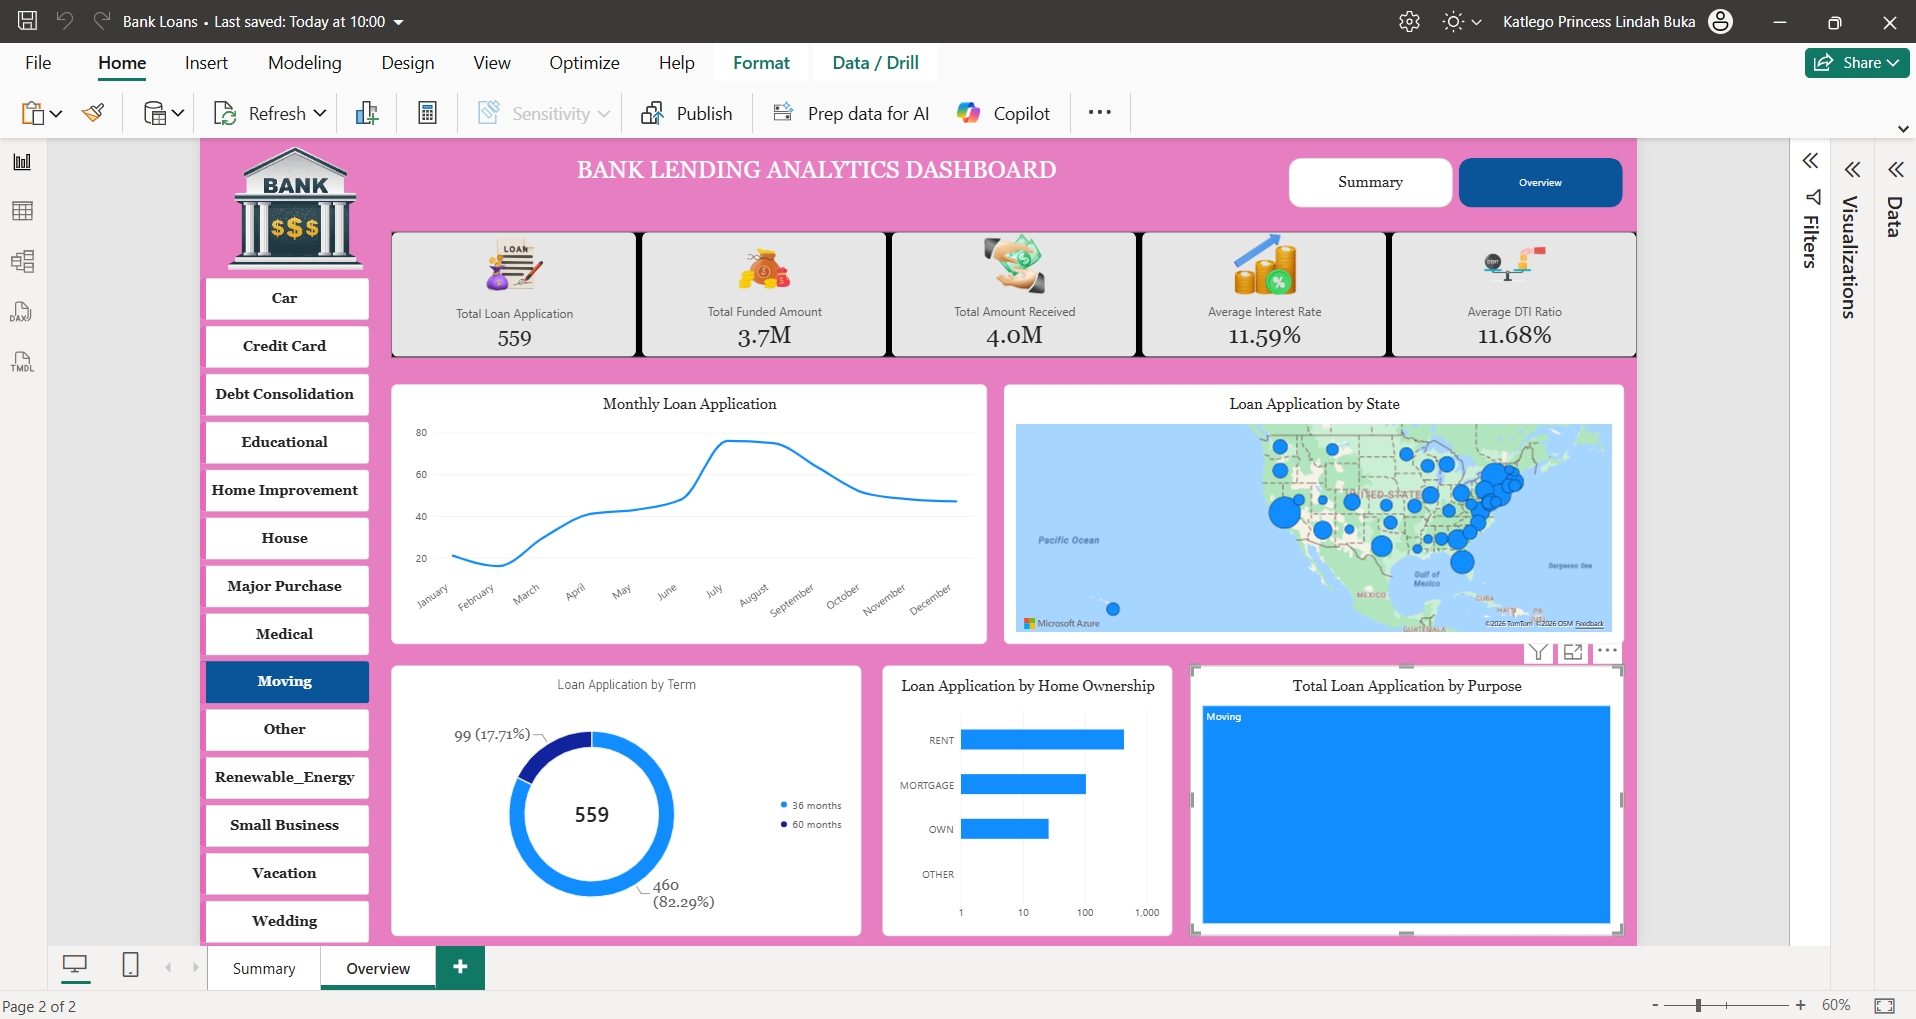

Layout of this report page (visuals, bound fields, positions):
{"tool":"powerbi","page":{"name":"Overview","canvas":[1920,1080],"ordinal":1},"visuals":[{"type":"cardVisual","fields":{"Data":["financial_loan.Total Loan Application","financial_loan.Total Funded Amount","financial_loan.Total Amount Received","financial_loan.Average Interest Rate","financial_loan.Average DTI Rate"]},"box":[255.2,124.9,1664.9,168.3],"z":0},{"type":"image","box":[0,0,255.2,186.4],"z":1000},{"type":"advancedSlicerVisual","fields":{"Values":["financial_loan.PURPOSE"]},"box":[0,186.4,226.2,894],"z":2000},{"type":"textbox","box":[298.6,23.5,1049.6,47.1],"z":3000},{"type":"pageNavigator","box":[1455,27.1,447,67],"z":4000},{"type":"lineChart","title":"Monthly Loan Application","fields":{"Category":["financial_loan.ISSUE_DATE.Variation.Date Hierarchy.Month"],"Y":["financial_loan.Total Loan Application"]},"box":[255.2,329.4,796.3,347.5],"z":5000},{"type":"donutChart","title":"Loan Application by Term","fields":{"Category":["financial_loan.TERM"],"Y":["financial_loan.Total Loan Application"]},"box":[255.2,704,628,361.9],"z":6000},{"type":"clusteredBarChart","title":"Loan Application by Home Ownership","fields":{"Category":["financial_loan.HOME_OWNERSHIP"],"Y":["financial_loan.Total Loan Application"]},"box":[912.1,704,387.3,361.9],"z":7000},{"type":"treemap","title":"Total Loan Application by Purpose","fields":{"Group":["financial_loan.PURPOSE"],"Values":["financial_loan.Total Loan Application"]},"box":[1322.9,704,579.1,361.9],"z":8000},{"type":"azureMap","title":"Loan Application by State","fields":{"Category":["financial_loan.ADDRESS_STATE"],"Size":["financial_loan.Total Loan Application"]},"box":[1073.1,329.4,828.8,347.5],"z":8001}]}

Visuals, with their boxes on the page's 1920x1080 design canvas (x1, y1, x2, y2). These are canvas units, not pixel positions in the 1916x1019 screenshot, which may show the page scaled, cropped or inside an application window:
cardVisual - financial_loan.Total Loan Application x financial_loan.Total Funded Amount: x1=255 y1=125 x2=1920 y2=293
image: x1=0 y1=0 x2=255 y2=186
advancedSlicerVisual - financial_loan.PURPOSE: x1=0 y1=186 x2=226 y2=1080
textbox: x1=299 y1=24 x2=1348 y2=71
pageNavigator: x1=1455 y1=27 x2=1902 y2=94
"Monthly Loan Application" lineChart: x1=255 y1=329 x2=1052 y2=677
"Loan Application by Term" donutChart: x1=255 y1=704 x2=883 y2=1066
"Loan Application by Home Ownership" clusteredBarChart: x1=912 y1=704 x2=1299 y2=1066
"Total Loan Application by Purpose" treemap: x1=1323 y1=704 x2=1902 y2=1066
"Loan Application by State" azureMap: x1=1073 y1=329 x2=1902 y2=677
